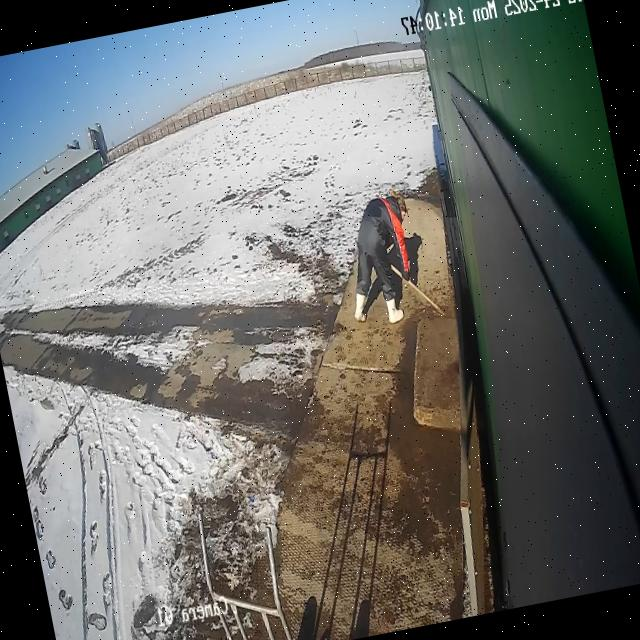Red uniform: (331, 187, 433, 333)
